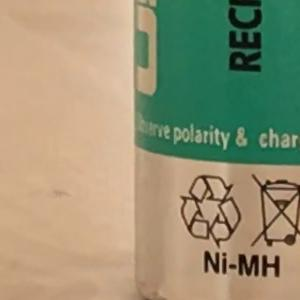keyword: (194, 245, 290, 284)
